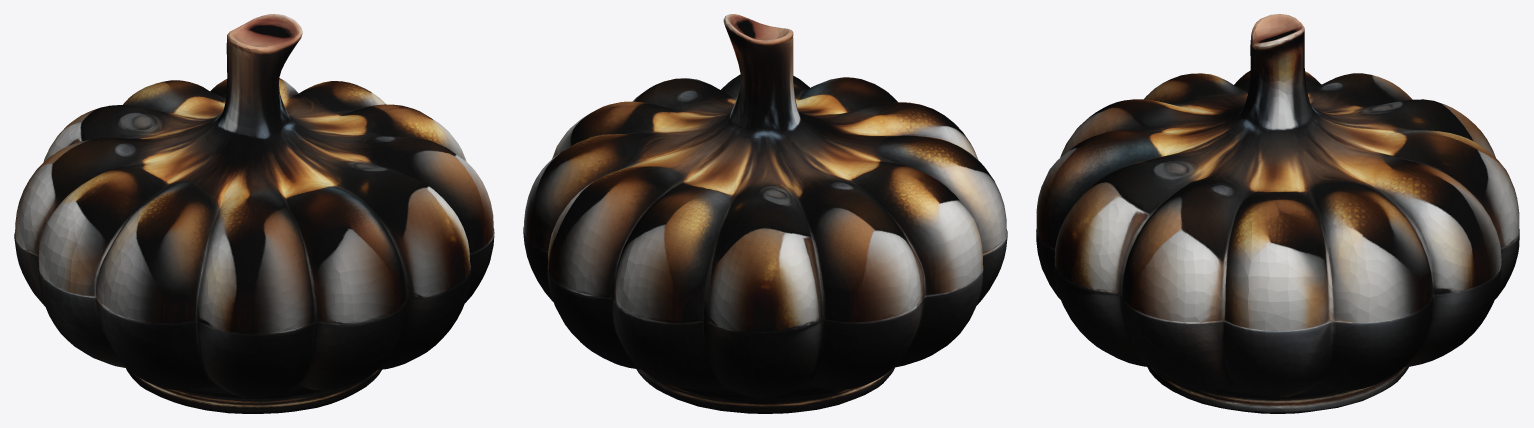
The model's file is ceramic-garlic-keeper-futuristic.jpeg.glb.
The picture shows the model from 3 angles, left to right: view 1: azimuth 30°, elevation 25°; view 2: azimuth 150°, elevation 25°; view 3: azimuth 270°, elevation 25°; orthographic projection. The views are drawn at different scales.
Parts seen in each view (by area): view 1: world; view 2: world; view 3: world.
Boxes of the visible parts, x1,y1,x2,y2 form: world: (14,14,494,413); world: (523,14,1007,413); world: (1036,14,1519,413).
Size of the model in its own units: 1 by 0.7754 by 1.
1 material, 1 textured.
